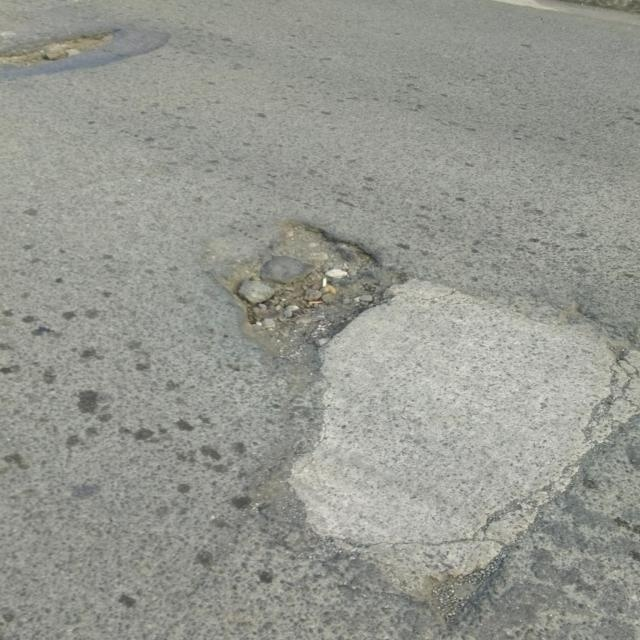pothole: (133, 144, 640, 636), (0, 17, 169, 95)
